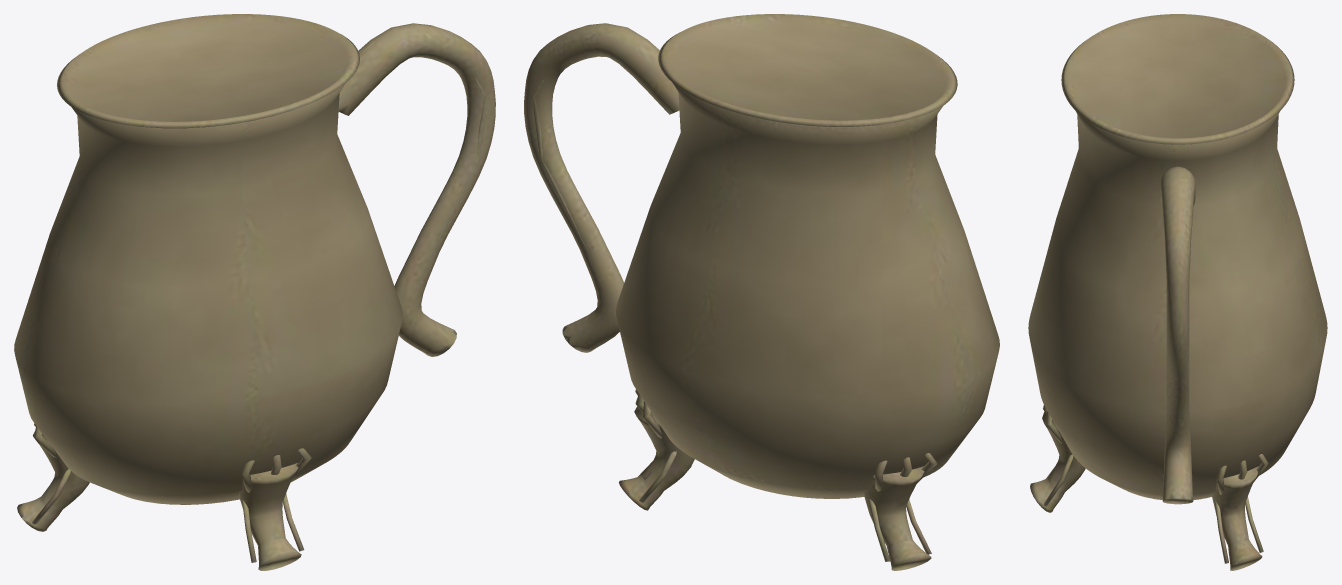
The picture shows the model from 3 angles, left to right: view 1: azimuth 30°, elevation 25°; view 2: azimuth 150°, elevation 25°; view 3: azimuth 270°, elevation 25°; orthographic projection. The views are drawn at different scales.
Parts seen in each view (by area): view 1: body; view 2: body; view 3: body.
Part boxes in pixels (<box>): body: <box>14,14,495,570</box>; body: <box>524,14,999,570</box>; body: <box>1028,14,1327,570</box>.
Size of the model in its own units: 0.2095 by 0.1957 by 0.1225.
Materials: 1 (1 with a texture image).
